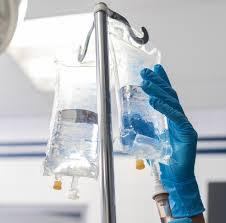Glove: (141, 65, 203, 217), (169, 218, 191, 222)
